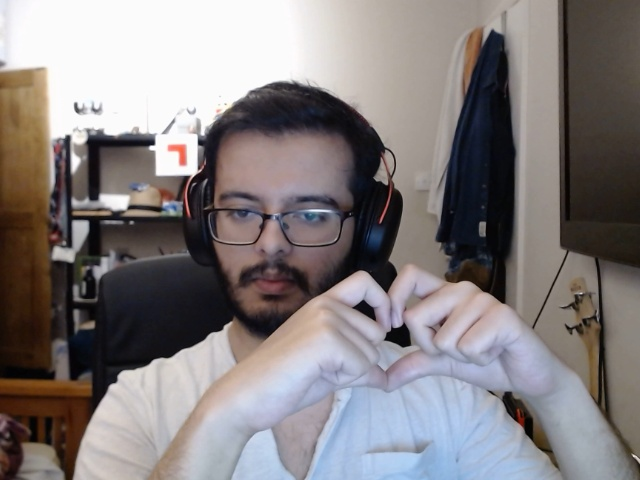Heart: (244, 260, 545, 413)
